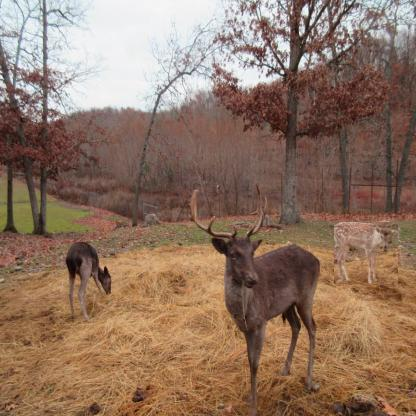Deer: (190, 183, 317, 410), (334, 222, 398, 284), (65, 241, 111, 321)
